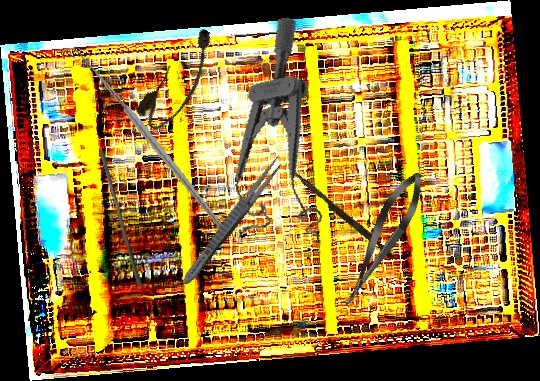Cannula: (132, 23, 229, 137)
Dressing Forceps: (178, 151, 288, 289)
Hook Surgical: (61, 28, 229, 253)
Micro Scissor: (332, 165, 433, 314)
Pusher: (285, 167, 397, 260), (94, 150, 148, 287)
Speculum: (200, 15, 341, 253)
